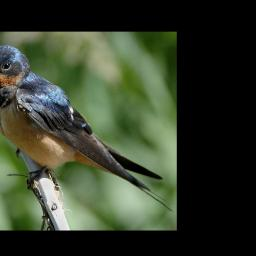Swallow: (0, 44, 174, 214)
